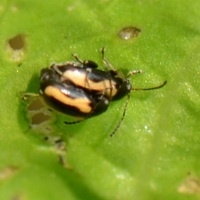insect: (40, 48, 141, 117)
